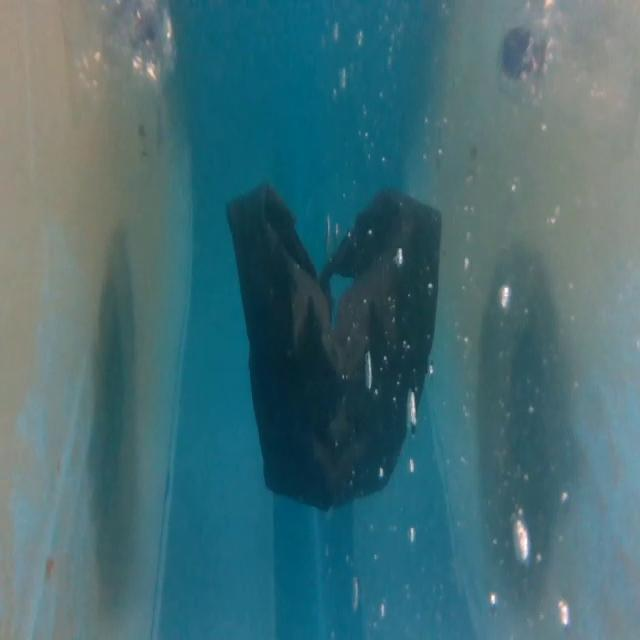plastic bags: (222, 175, 448, 516)
